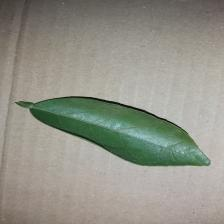healthy: (22, 96, 217, 172)
